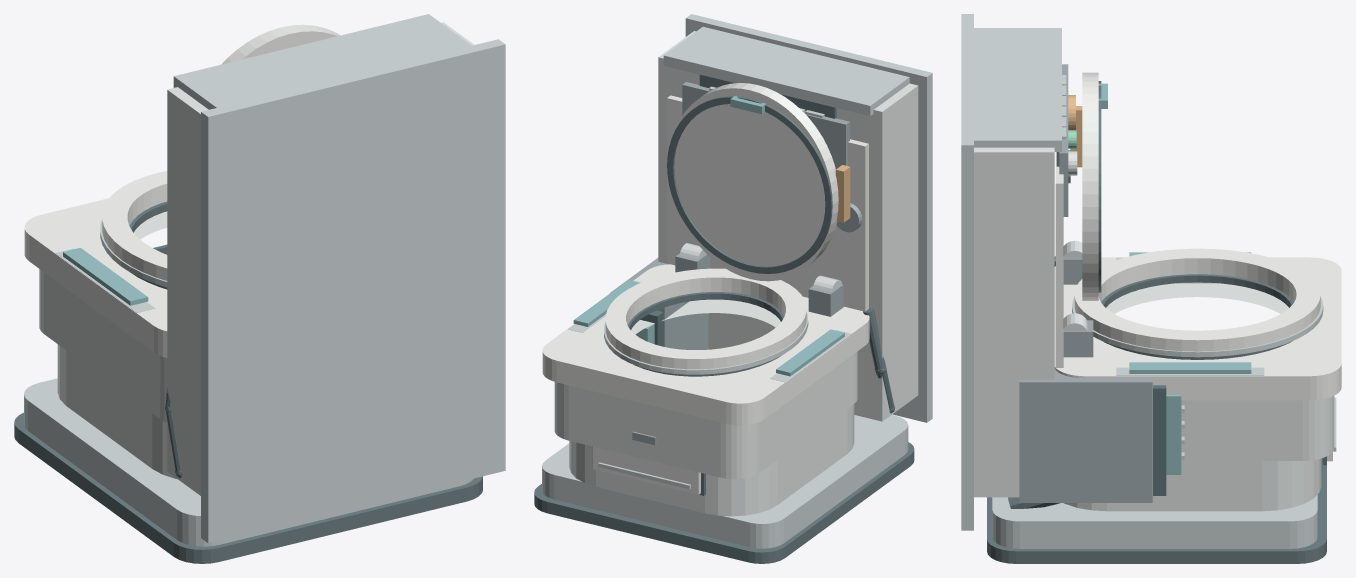
File: habitat_toilet.glb
The picture shows the model from 3 angles, left to right: view 1: azimuth 30°, elevation 25°; view 2: azimuth 150°, elevation 25°; view 3: azimuth 270°, elevation 25°; orthographic projection. The views are drawn at different scales.
Visible parts, largest first — view 1: STATIC_light_aluminium, STATIC_cabinet_ivory, STATIC_ceramic_white, STATIC_rubber_gasket, lid_hinged, STATIC_soft_teal; view 2: STATIC_cabinet_ivory, STATIC_light_aluminium, STATIC_ceramic_white, lid_hinged, STATIC_rubber_gasket, STATIC_composite_white, STATIC_mechanical_grey, lid_seal_hinged, front_lower_access_hatch, STATIC_soft_teal, flush_override_lever, STATIC_polished_alloy; view 3: STATIC_cabinet_ivory, STATIC_light_aluminium, STATIC_ceramic_white, STATIC_mechanical_grey, STATIC_rubber_gasket, lid_hinged, STATIC_composite_white, STATIC_dark_recess, STATIC_soft_teal, vacuum_filter_cartridge, lid_seal_hinged, STATIC_polished_alloy.
Part boxes in pixels (left/top/right/bottom): STATIC_light_aluminium: left=24, top=14, right=505, bottom=546; STATIC_cabinet_ivory: left=39, top=22, right=473, bottom=495; STATIC_ceramic_white: left=24, top=171, right=167, bottom=357; STATIC_rubber_gasket: left=14, top=201, right=482, bottom=563; lid_hinged: left=221, top=24, right=340, bottom=64; STATIC_soft_teal: left=63, top=248, right=148, bottom=305; STATIC_cabinet_ivory: left=554, top=31, right=918, bottom=516; STATIC_light_aluminium: left=542, top=14, right=932, bottom=548; STATIC_ceramic_white: left=542, top=264, right=869, bottom=425; lid_hinged: left=672, top=83, right=838, bottom=281; STATIC_rubber_gasket: left=534, top=74, right=914, bottom=563; STATIC_composite_white: left=667, top=95, right=868, bottom=311; STATIC_mechanical_grey: left=610, top=82, right=862, bottom=445; lid_seal_hinged: left=667, top=96, right=832, bottom=273; front_lower_access_hatch: left=592, top=446, right=700, bottom=494; STATIC_soft_teal: left=573, top=280, right=844, bottom=376; flush_override_lever: left=835, top=165, right=850, bottom=222; STATIC_polished_alloy: left=679, top=243, right=841, bottom=291; STATIC_cabinet_ivory: left=974, top=147, right=1334, bottom=511; STATIC_light_aluminium: left=961, top=14, right=1336, bottom=548; STATIC_ceramic_white: left=1054, top=248, right=1341, bottom=400; STATIC_mechanical_grey: left=1019, top=64, right=1152, bottom=502; STATIC_rubber_gasket: left=987, top=152, right=1326, bottom=563; lid_hinged: left=1082, top=72, right=1098, bottom=300; STATIC_composite_white: left=1055, top=152, right=1063, bottom=367; STATIC_dark_recess: left=1153, top=385, right=1166, bottom=495; STATIC_soft_teal: left=1129, top=252, right=1251, bottom=373; vacuum_filter_cartridge: left=1166, top=394, right=1181, bottom=474; lid_seal_hinged: left=1098, top=81, right=1101, bottom=292; STATIC_polished_alloy: left=1063, top=240, right=1087, bottom=331.
Bounding box in the file's own units: 0.86 × 1.25 × 1.03.
